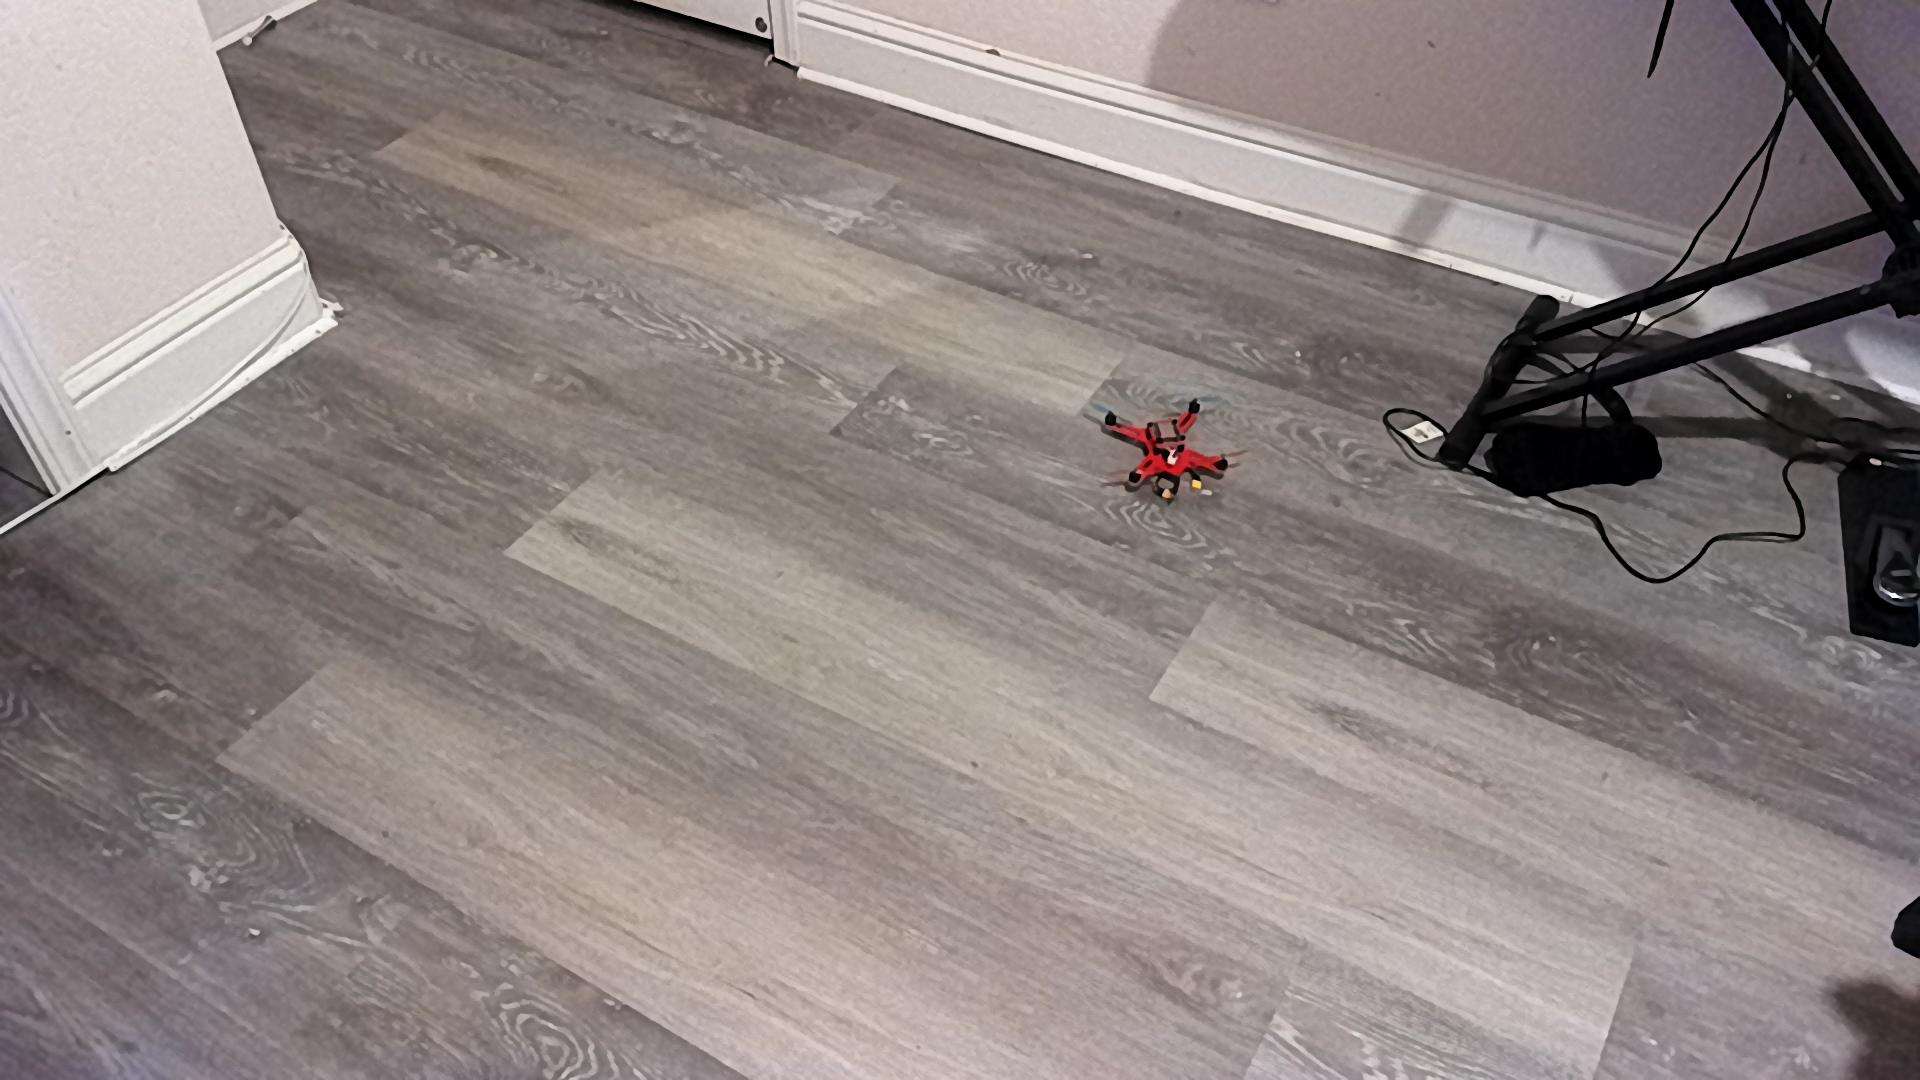drone: (1079, 386, 1255, 514)
